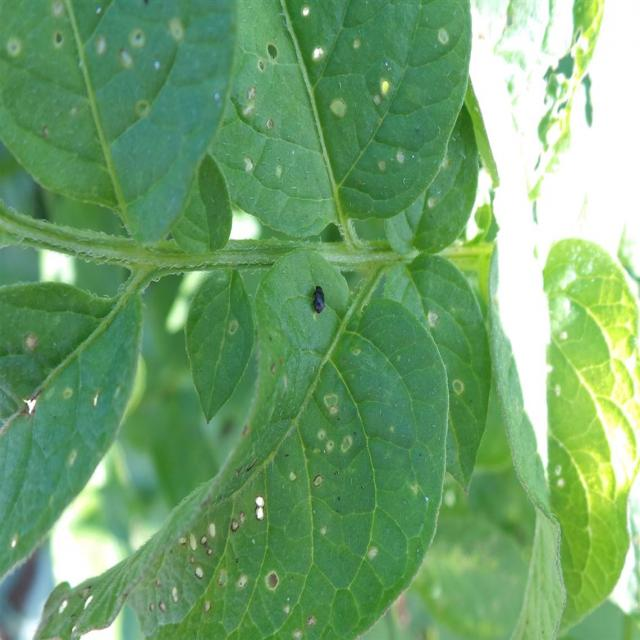flea_beetle: (303, 271, 335, 322)
